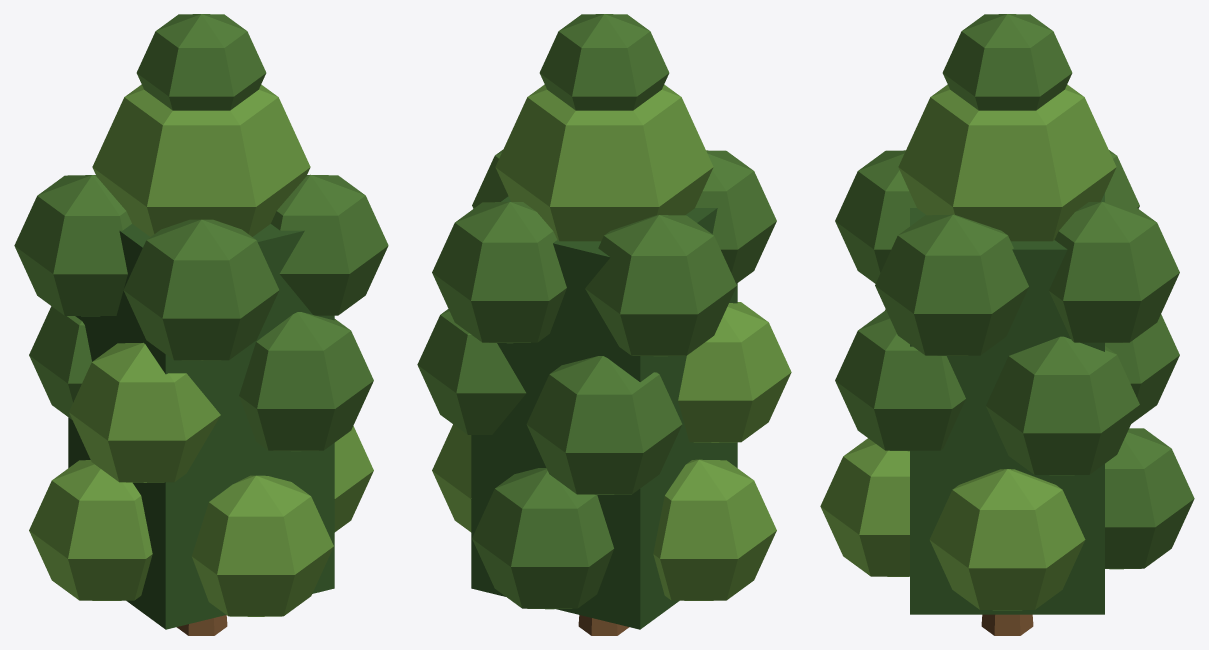
The model's file is hedge_pillar.glb.
The picture shows the model from 3 angles, left to right: view 1: azimuth 30°, elevation 25°; view 2: azimuth 150°, elevation 25°; view 3: azimuth 270°, elevation 25°; orthographic projection.
Parts seen in each view (by area): view 1: wall_hedge_pillar; view 2: wall_hedge_pillar; view 3: wall_hedge_pillar.
Part boxes in pixels (<box>): wall_hedge_pillar: <box>14,14,388,635</box>; wall_hedge_pillar: <box>417,14,791,635</box>; wall_hedge_pillar: <box>820,14,1194,635</box>.
Bounding box in the file's own units: 1.36 × 2.6 × 1.44.
